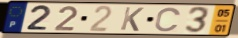2: (25, 4, 53, 33), (88, 5, 115, 33), (52, 5, 79, 32)
3: (184, 6, 211, 35)
C: (153, 7, 183, 33)
K: (119, 6, 146, 33)
